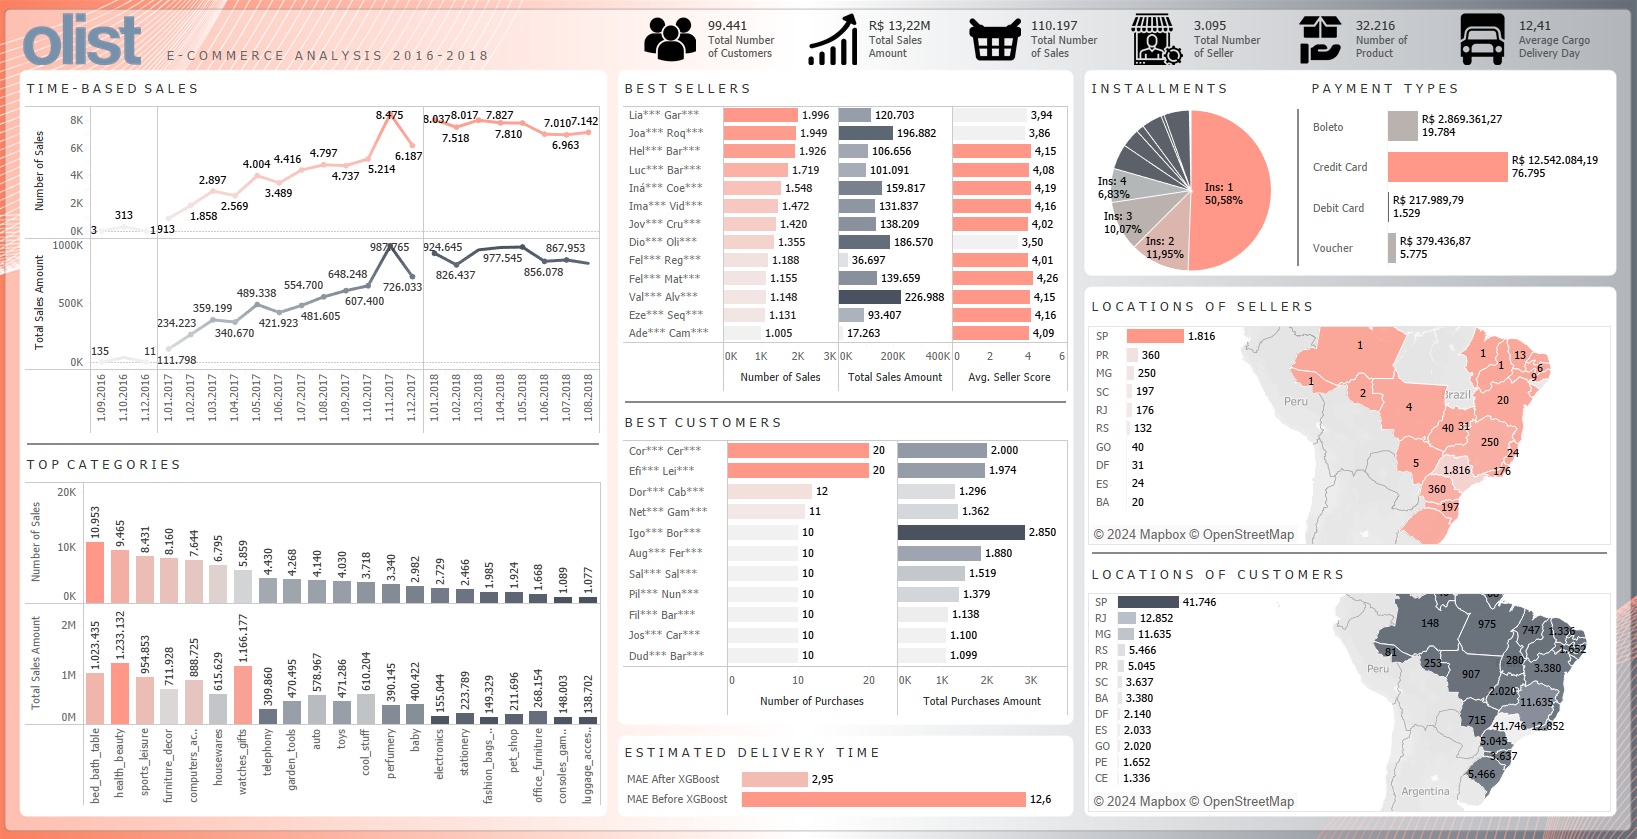

The page's visual inventory and layout, read from the dashboard file:
{"tool":"tableau","page":{"name":"Olist Data Analysis","canvas":[1654,850],"ordinal":0},"visuals":[{"type":"image","param":"C:/Users/yucel/Python Projects/Ecommerce/Tableau Images/Olist Tableau Background","box":[0,0,1654,850]},{"type":"blank","box":[8,4,1636,10]},{"type":"blank","box":[8,14,20,60]},{"type":"image","param":"C:/Users/yucel/Python Projects/Ecommerce/Tableau Images/olist logo.png","box":[28,14,141,60]},{"type":"text","box":[169,14,480,60]},{"type":"image","param":"C:/Users/yucel/Python Projects/Ecommerce/Tableau Images/customer.png","box":[649,14,64,60]},{"type":"worksheet","title":"I-Total Customer","mark":"Automatic","box":[713,14,100,60]},{"type":"image","param":"C:/Users/yucel/Python Projects/Ecommerce/Tableau Images/amount.png","box":[813,14,61,60]},{"type":"worksheet","title":"I-Total Amount","mark":"Automatic","box":[874,14,100,60]},{"type":"image","param":"C:/Users/yucel/Python Projects/Ecommerce/Tableau Images/sale.png","box":[974,14,62,60]},{"type":"worksheet","title":"I-Total Sales","mark":"Automatic","box":[1036,14,100,60]},{"type":"image","param":"C:/Users/yucel/Python Projects/Ecommerce/Tableau Images/seller.png","box":[1136,14,63,60]},{"type":"worksheet","title":"I-Total Seller","mark":"Automatic","box":[1199,14,100,60]},{"type":"image","param":"C:/Users/yucel/Python Projects/Ecommerce/Tableau Images/package.png","box":[1299,14,62,60]},{"type":"worksheet","title":"I-Product Number","mark":"Automatic","box":[1361,14,100,60]},{"type":"image","param":"C:/Users/yucel/Python Projects/Ecommerce/Tableau Images/cargo.png","box":[1461,14,63,60]},{"type":"worksheet","title":"I-Cargo Day","mark":"Automatic","box":[1524,14,100,60]},{"type":"blank","box":[1624,14,20,60]},{"type":"blank","box":[8,74,20,747]},{"type":"text","box":[28,74,588,30]},{"type":"blank","box":[616,74,10,747]},{"type":"text","box":[626,74,457,30]},{"type":"blank","box":[1083,74,10,747]},{"type":"text","box":[1093,74,220,30]},{"type":"text","box":[1313,74,311,30]},{"type":"blank","box":[1624,74,20,747]},{"type":"blank","box":[28,104,588,5]},{"type":"blank","box":[626,104,457,5]},{"type":"blank","box":[1093,104,531,5]},{"type":"worksheet","title":"Sales Chart","mark":"Automatic","rows":["Worksheet_42ED1D130C354703A4B4653FA466DA08","price"],"cols":["order_purchase_timestamp","order_purchase_timestamp"],"box":[30,111,584,332]},{"type":"worksheet","title":"Best Sellers","mark":"Automatic","rows":["seller_id"],"cols":["Worksheet_42ED1D130C354703A4B4653FA466DA08","price","seller_score"],"box":[628,111,453,290]},{"type":"worksheet","title":"Installment Distribution","mark":"Pie","box":[1095,111,211,169]},{"type":"blank","box":[1306,111,6,169]},{"type":"worksheet","title":"Payment Types","mark":"Automatic","rows":["payment_type"],"cols":["Worksheet_60BB52B6B74B421589824E4C5F4A3490"],"box":[1312,111,310,169]},{"type":"blank","box":[1093,282,531,10]},{"type":"text","box":[1093,292,531,30]},{"type":"blank","box":[1093,322,531,5]},{"type":"worksheet","title":"Seller States","mark":"Automatic","box":[1093,327,531,227]},{"type":"worksheet","title":"Seller States Bar","mark":"Automatic","rows":["seller_state"],"cols":["Worksheet_80257BCCD3774A9B8FB58E166A07E4E3"],"box":[1099,332,133,184]},{"type":"blank","box":[626,403,457,5]},{"type":"text","box":[626,408,457,30]},{"type":"blank","box":[626,438,457,5]},{"type":"blank","box":[28,445,588,5]},{"type":"worksheet","title":"Best Customers","mark":"Automatic","rows":["customer_id"],"cols":["Worksheet_42ED1D130C354703A4B4653FA466DA08","price"],"box":[628,445,453,283]},{"type":"text","box":[28,450,588,30]},{"type":"blank","box":[28,480,588,5]},{"type":"worksheet","title":"Top Categories","mark":"Automatic","cols":["product_category_name_english"],"box":[30,487,584,332]},{"type":"blank","box":[1093,554,531,5]},{"type":"text","box":[1093,559,531,30]},{"type":"blank","box":[1093,589,531,5]},{"type":"worksheet","title":"Customer States","mark":"Automatic","box":[1093,594,531,227]},{"type":"worksheet","title":"Customer States Bar","mark":"Automatic","rows":["customer_state"],"cols":["Worksheet_1B9507869CA84E93B1CE5BB1E1A12DFF"],"box":[1098,599,135,192]},{"type":"blank","box":[626,730,457,10]},{"type":"text","box":[626,740,457,25]},{"type":"blank","box":[626,765,457,5]},{"type":"worksheet","title":"ML Result","mark":"Automatic","box":[626,770,457,48]},{"type":"blank","box":[8,821,1636,25]}]}

Visuals, with their boxes in screenshot pixels (x1, y1, x2, y2), scaled from the page's 1654x850 canvas onto the 1637x839 screenshot:
image: locate(0, 0, 1636, 838)
blank: locate(8, 4, 1627, 14)
blank: locate(8, 14, 28, 73)
image: locate(28, 14, 167, 73)
text: locate(167, 14, 642, 73)
image: locate(642, 14, 706, 73)
"I-Total Customer" worksheet: locate(706, 14, 805, 73)
image: locate(805, 14, 865, 73)
"I-Total Amount" worksheet: locate(865, 14, 964, 73)
image: locate(964, 14, 1025, 73)
"I-Total Sales" worksheet: locate(1025, 14, 1124, 73)
image: locate(1124, 14, 1187, 73)
"I-Total Seller" worksheet: locate(1187, 14, 1286, 73)
image: locate(1286, 14, 1347, 73)
"I-Product Number" worksheet: locate(1347, 14, 1446, 73)
image: locate(1446, 14, 1508, 73)
"I-Cargo Day" worksheet: locate(1508, 14, 1607, 73)
blank: locate(1607, 14, 1627, 73)
blank: locate(8, 73, 28, 810)
text: locate(28, 73, 610, 103)
blank: locate(610, 73, 620, 810)
text: locate(620, 73, 1072, 103)
blank: locate(1072, 73, 1082, 810)
text: locate(1082, 73, 1300, 103)
text: locate(1300, 73, 1607, 103)
blank: locate(1607, 73, 1627, 810)
blank: locate(28, 103, 610, 108)
blank: locate(620, 103, 1072, 108)
blank: locate(1082, 103, 1607, 108)
"Sales Chart" worksheet: locate(30, 110, 608, 437)
"Best Sellers" worksheet: locate(622, 110, 1070, 396)
"Installment Distribution" worksheet (Pie marks): locate(1084, 110, 1293, 276)
blank: locate(1293, 110, 1299, 276)
"Payment Types" worksheet: locate(1299, 110, 1605, 276)
blank: locate(1082, 278, 1607, 288)
text: locate(1082, 288, 1607, 318)
blank: locate(1082, 318, 1607, 323)
"Seller States" worksheet: locate(1082, 323, 1607, 547)
"Seller States Bar" worksheet: locate(1088, 328, 1219, 509)
blank: locate(620, 398, 1072, 403)
text: locate(620, 403, 1072, 432)
blank: locate(620, 432, 1072, 437)
blank: locate(28, 439, 610, 444)
"Best Customers" worksheet: locate(622, 439, 1070, 719)
text: locate(28, 444, 610, 474)
blank: locate(28, 474, 610, 479)
"Top Categories" worksheet: locate(30, 481, 608, 808)
blank: locate(1082, 547, 1607, 552)
text: locate(1082, 552, 1607, 581)
blank: locate(1082, 581, 1607, 586)
"Customer States" worksheet: locate(1082, 586, 1607, 810)
"Customer States Bar" worksheet: locate(1087, 591, 1220, 781)
blank: locate(620, 721, 1072, 730)
text: locate(620, 730, 1072, 755)
blank: locate(620, 755, 1072, 760)
"ML Result" worksheet: locate(620, 760, 1072, 807)
blank: locate(8, 810, 1627, 835)
